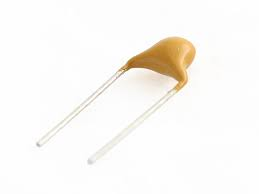ceramic capacitor: (110, 29, 229, 124)
